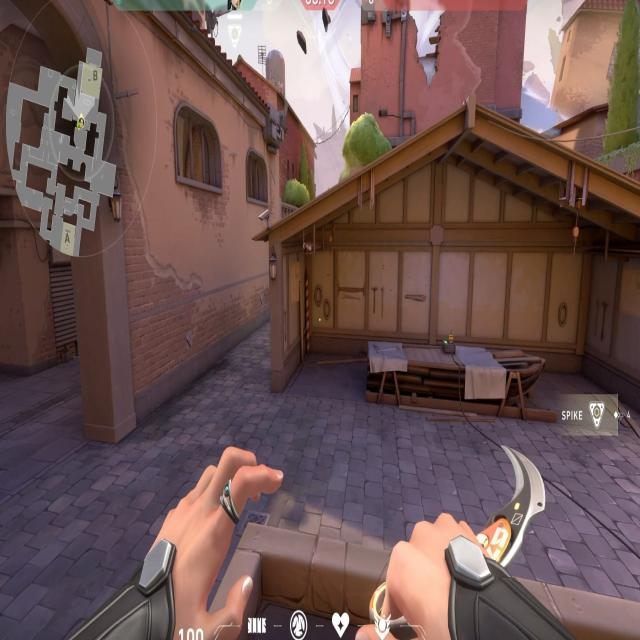B_Garage_Left: (525, 226, 640, 418), (267, 235, 387, 396)
Throwables: (172, 97, 225, 196), (244, 146, 270, 210)
